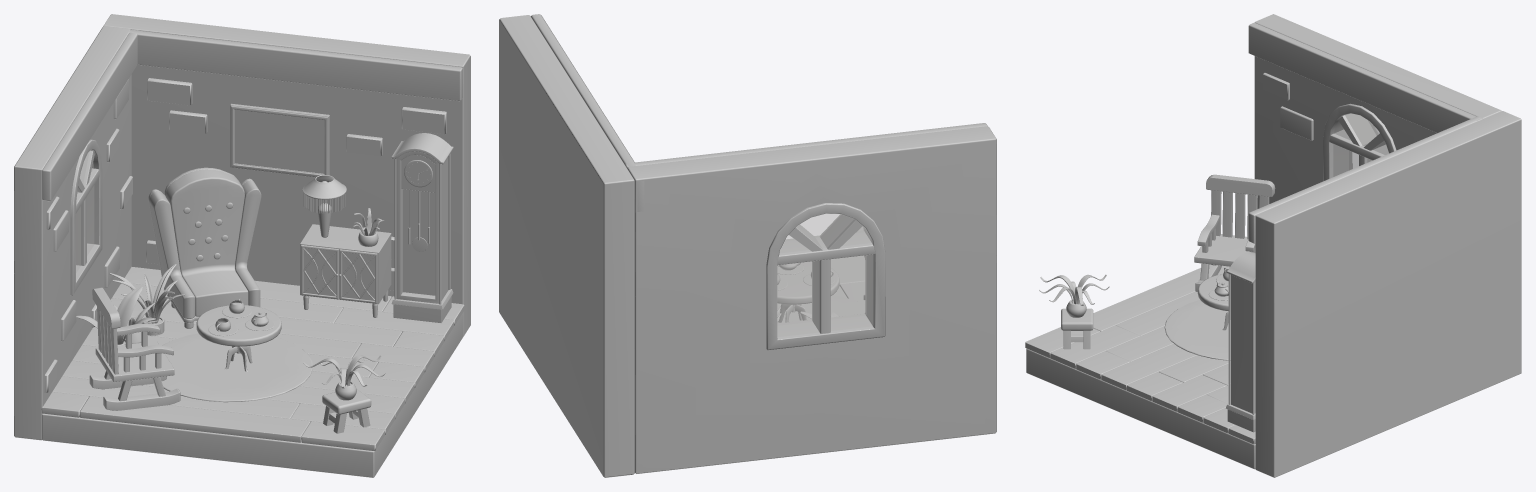
File: Salon_39.fbx
3 views of the same model, side by side, from view 1: azimuth 30°, elevation 25°; view 2: azimuth 150°, elevation 25°; view 3: azimuth 270°, elevation 25° (orthographic). The views are drawn at different scales.
Parts seen in each view (by area): view 1: Room_39_Wall_2, Room_39_Wall_1, Room_39_Floor_2, Room_39_Armchair_1, Room_39_Floor_1, Room_39_Old_clock_1, Room_39_Carpet_1, Room_39_Painting_1, Room_39_Cabinet_1, Room_39_Chair_1, Room_39_Window_1, Room_39_Table_1 (+6 smaller); view 2: Room_39_Wall_1, Room_39_Wall_2, Room_39_Window_1, Room_39_Table_1, Room_39_Floor_2, Room_39_Carpet_1; view 3: Room_39_Wall_2, Room_39_Wall_1, Room_39_Floor_2, Room_39_Floor_1, Room_39_Old_clock_1, Room_39_Chair_1, Room_39_Window_1, Room_39_Carpet_1, Room_39_Plant_1, Room_39_Chair_2, Room_39_Table_1.
Boxes of the visible parts, box(x1,y1,x2,y2) form: Room_39_Wall_2: box(103, 14, 470, 336); Room_39_Wall_1: box(14, 26, 137, 440); Room_39_Floor_2: box(41, 267, 464, 451); Room_39_Armchair_1: box(148, 167, 261, 328); Room_39_Floor_1: box(42, 313, 463, 477); Room_39_Old_clock_1: box(391, 133, 453, 323); Room_39_Carpet_1: box(161, 333, 312, 402); Room_39_Painting_1: box(230, 103, 329, 177); Room_39_Cabinet_1: box(300, 224, 391, 317); Room_39_Chair_1: box(89, 287, 180, 410); Room_39_Window_1: box(70, 139, 102, 295); Room_39_Table_1: box(196, 305, 281, 371); Room_39_Wall_1: box(625, 123, 996, 473); Room_39_Wall_2: box(499, 14, 644, 477); Room_39_Window_1: box(766, 203, 885, 349); Room_39_Table_1: box(777, 261, 839, 322); Room_39_Floor_2: box(830, 255, 865, 304); Room_39_Carpet_1: box(777, 295, 865, 323); Room_39_Wall_2: box(1248, 111, 1521, 477); Room_39_Wall_1: box(1248, 14, 1501, 208); Room_39_Floor_2: box(1025, 266, 1255, 444); Room_39_Floor_1: box(1026, 348, 1255, 469); Room_39_Old_clock_1: box(1225, 252, 1255, 432); Room_39_Chair_1: box(1194, 174, 1275, 291); Room_39_Window_1: box(1323, 103, 1396, 181); Room_39_Carpet_1: box(1164, 300, 1230, 360); Room_39_Plant_1: box(1039, 274, 1109, 317); Room_39_Chair_2: box(1061, 308, 1093, 349); Room_39_Table_1: box(1197, 274, 1228, 330).
Bounding box in the file's own units: 703 × 400 × 705.
